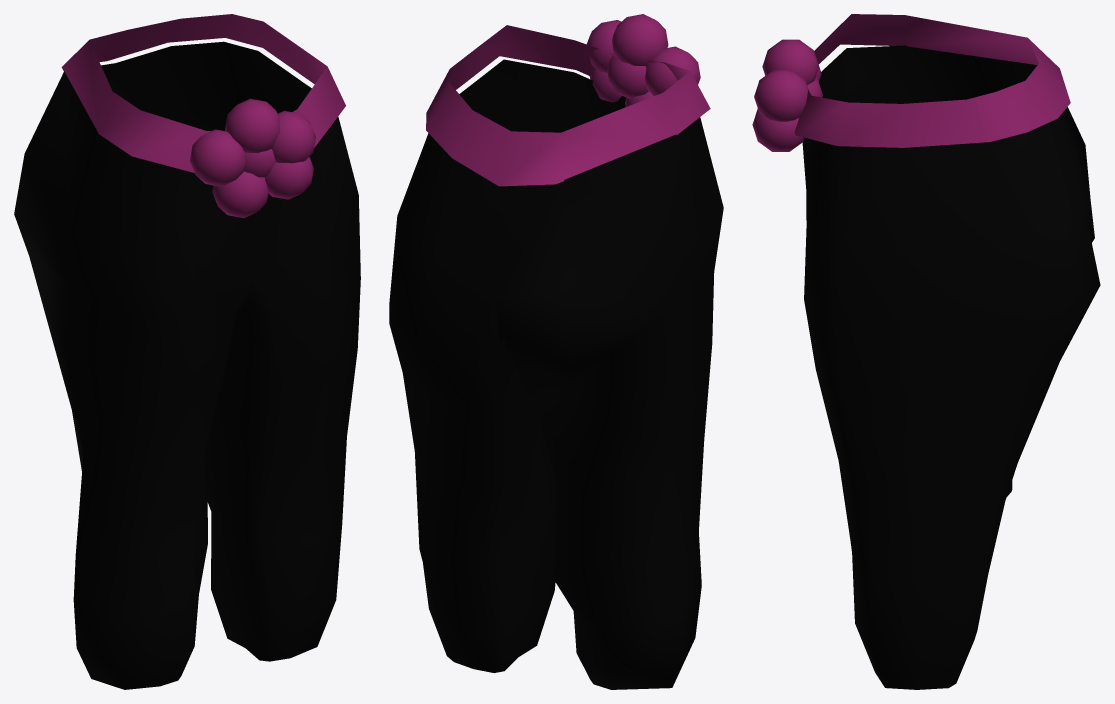
File: siyah çiçekli uzun pantalon.fbx
The picture shows the model from 3 angles, left to right: view 1: azimuth 30°, elevation 25°; view 2: azimuth 150°, elevation 25°; view 3: azimuth 270°, elevation 25°; orthographic projection. The views are drawn at different scales.
Parts seen in each view (by area): view 1: Cube.003; view 2: Cube.003; view 3: Cube.003.
Boxes of the visible parts, x1,y1,x2,y2 form: Cube.003: (14, 14, 360, 689); Cube.003: (389, 14, 723, 689); Cube.003: (752, 14, 1100, 689).
Size of the model in its own units: 88.93 by 206 by 109.
